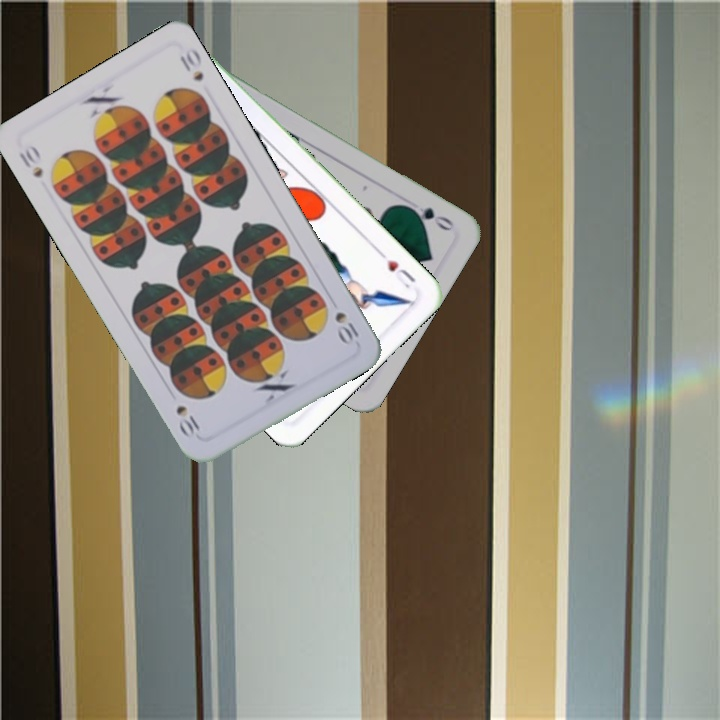GO: (401, 201, 457, 234)
HU: (374, 247, 418, 292)
S10: (330, 307, 362, 348), (15, 141, 46, 181)
